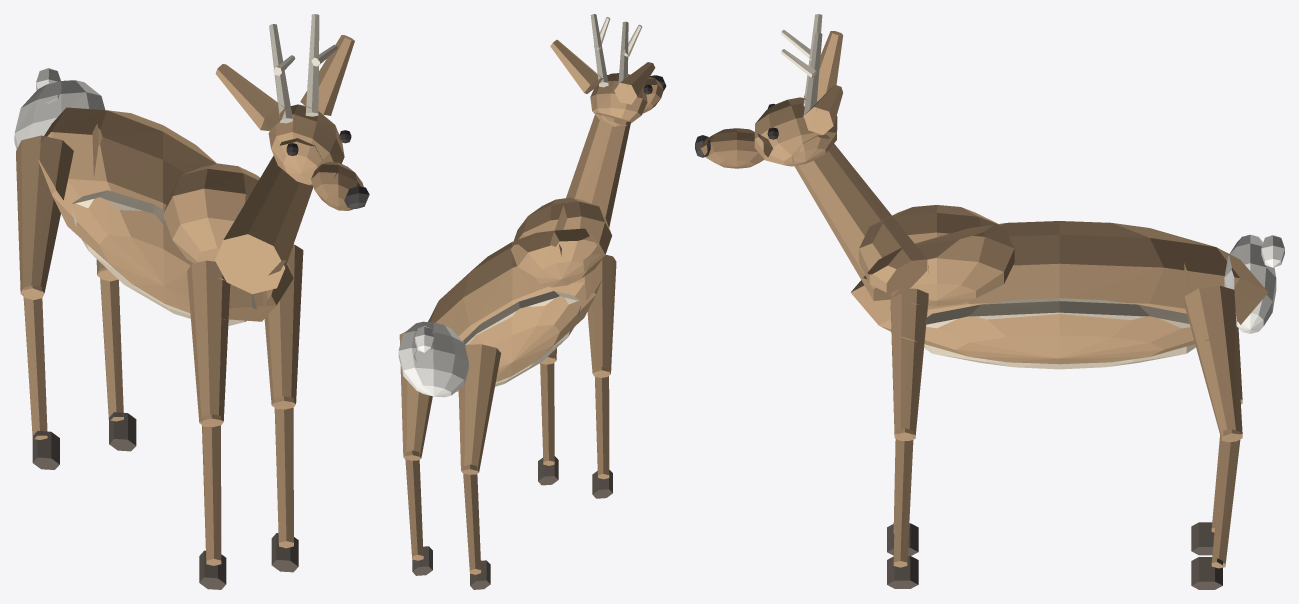
File: deer.glb
3 views of the same model, side by side, from view 1: azimuth 30°, elevation 25°; view 2: azimuth 150°, elevation 25°; view 3: azimuth 270°, elevation 25° (orthographic). The views are drawn at different scales.
Visible parts, largest first — view 1: Body, Head.Neck, Leg.BR, Body.Withers, Leg.FR, Leg.FL, Head.Skull, Body.Rump, Leg.FR.Shin, Leg.FL.Shin, Leg.BR.Shin, Leg.BL.Shin (+11 smaller); view 2: Body, Body.Withers, Head.Neck, Body.Rump, Leg.BR, Leg.FR, Leg.BL, Head.Skull, Body.Belly, Leg.FR.Shin, Leg.BL.Shin, Leg.BR.Shin (+11 smaller); view 3: Body, Body.Withers, Head.Neck, Leg.BL, Body.Belly, Leg.FL, Head.Skull, Body.Rump, Leg.BL.Shin, Leg.FL.Shin, Head.Muzzle, Head.Ear#2 (+3 smaller).
Boxes of the visible parts, bbox=[...] form: Body: bbox=[38, 107, 293, 321]; Head.Neck: bbox=[215, 138, 322, 294]; Leg.BR: bbox=[16, 135, 73, 299]; Body.Withers: bbox=[163, 163, 285, 280]; Leg.FR: bbox=[187, 260, 230, 427]; Leg.FL: bbox=[262, 244, 303, 409]; Head.Skull: bbox=[268, 104, 344, 185]; Body.Rump: bbox=[14, 80, 105, 149]; Leg.FR.Shin: bbox=[201, 414, 221, 565]; Leg.FL.Shin: bbox=[274, 396, 293, 548]; Leg.BR.Shin: bbox=[23, 285, 47, 439]; Leg.BL.Shin: bbox=[99, 267, 123, 421]; Body: bbox=[414, 228, 602, 388]; Body.Withers: bbox=[511, 197, 612, 287]; Head.Neck: bbox=[550, 112, 630, 246]; Body.Rump: bbox=[398, 321, 468, 397]; Leg.BR: bbox=[458, 344, 500, 474]; Leg.FR: bbox=[583, 254, 616, 377]; Leg.BL: bbox=[399, 332, 432, 460]; Head.Skull: bbox=[590, 73, 647, 126]; Body.Belly: bbox=[456, 291, 581, 392]; Leg.FR.Shin: bbox=[594, 367, 609, 479]; Leg.BL.Shin: bbox=[405, 450, 423, 560]; Leg.BR.Shin: bbox=[463, 464, 481, 574]; Body: bbox=[850, 221, 1268, 364]; Body.Withers: bbox=[859, 205, 1014, 305]; Head.Neck: bbox=[792, 135, 927, 300]; Leg.BL: bbox=[1184, 285, 1242, 442]; Body.Belly: bbox=[924, 298, 1195, 369]; Leg.FL: bbox=[890, 288, 928, 440]; Head.Skull: bbox=[754, 97, 837, 166]; Body.Rump: bbox=[1224, 234, 1276, 333]; Leg.BL.Shin: bbox=[1211, 429, 1240, 568]; Leg.FL.Shin: bbox=[893, 428, 913, 567]; Head.Muzzle: bbox=[700, 128, 772, 168]; Head.Ear#2: bbox=[804, 85, 842, 134].
Bounding box in the file's own units: 0.32 × 1.32 × 1.3.
